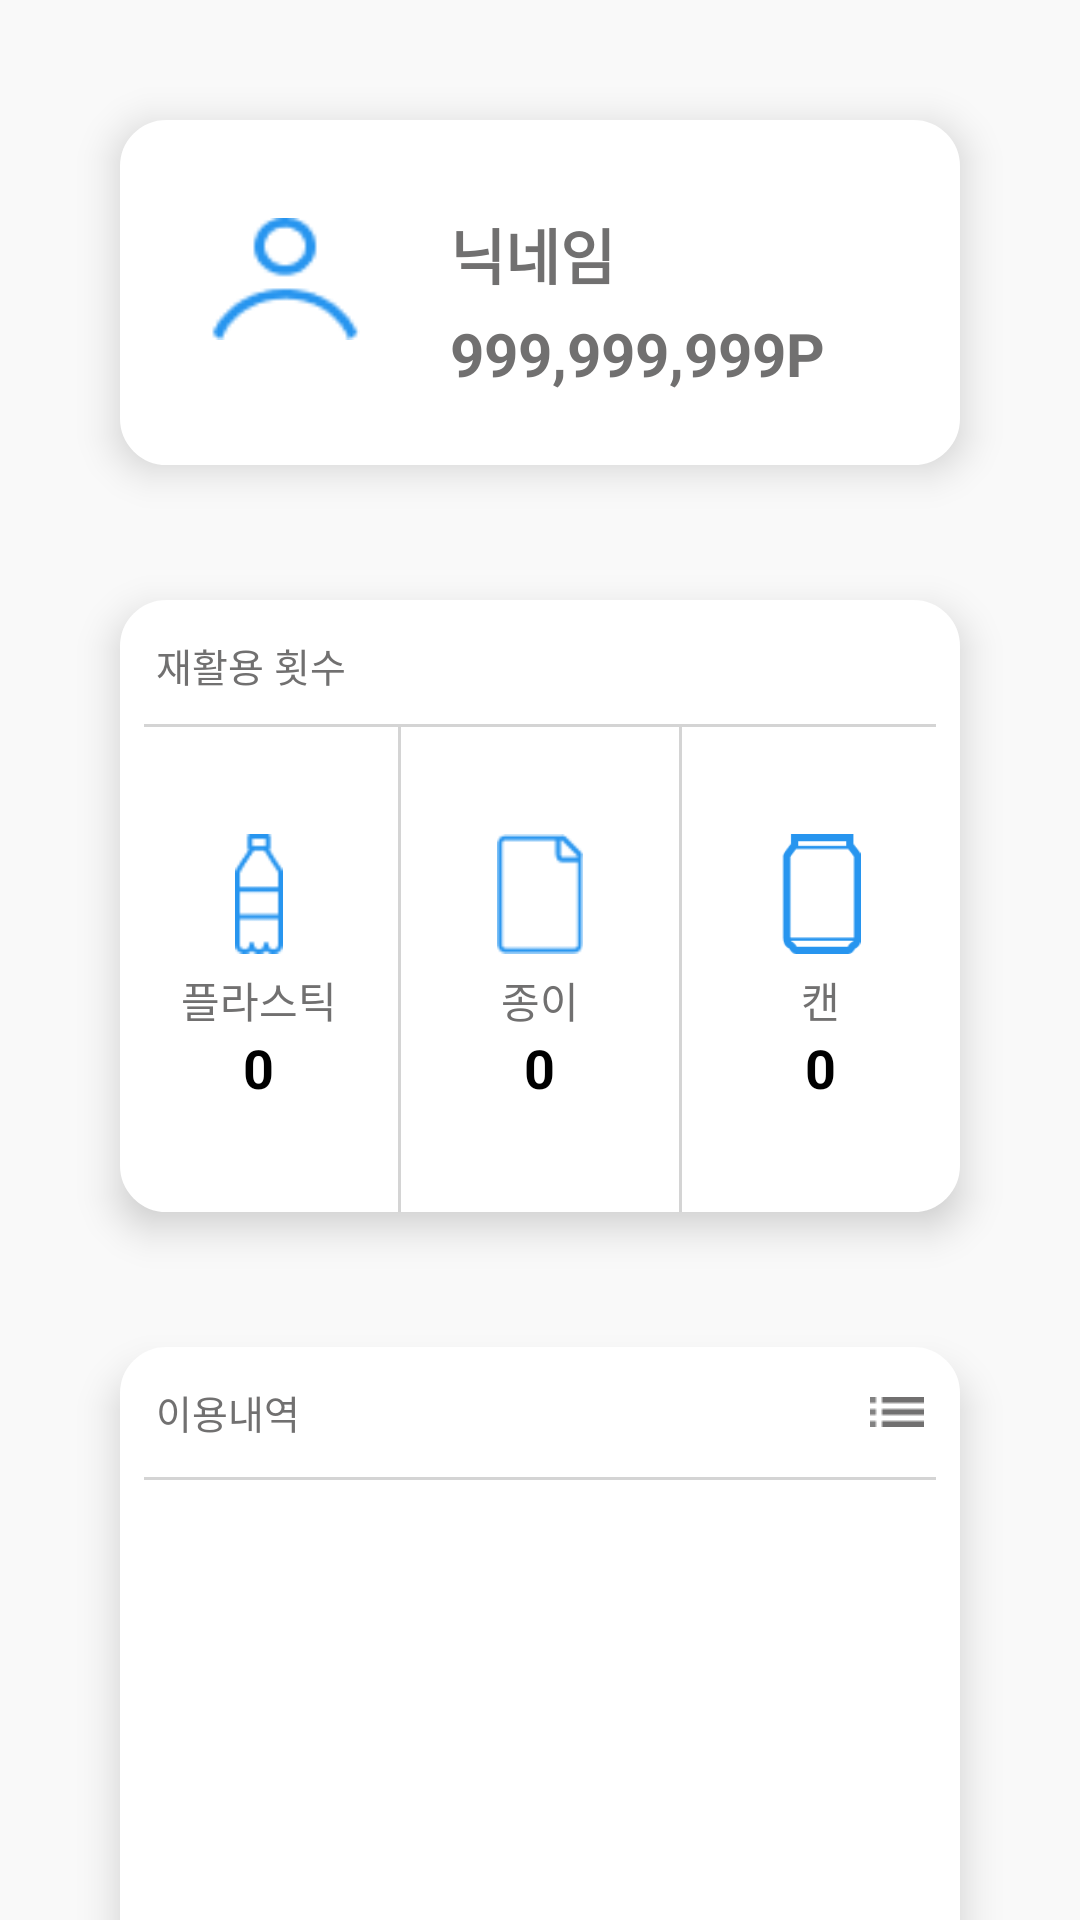

Named icons in this screenshot (1080px×1920px) and their centers, [x,y]:
profile: [285,279]
